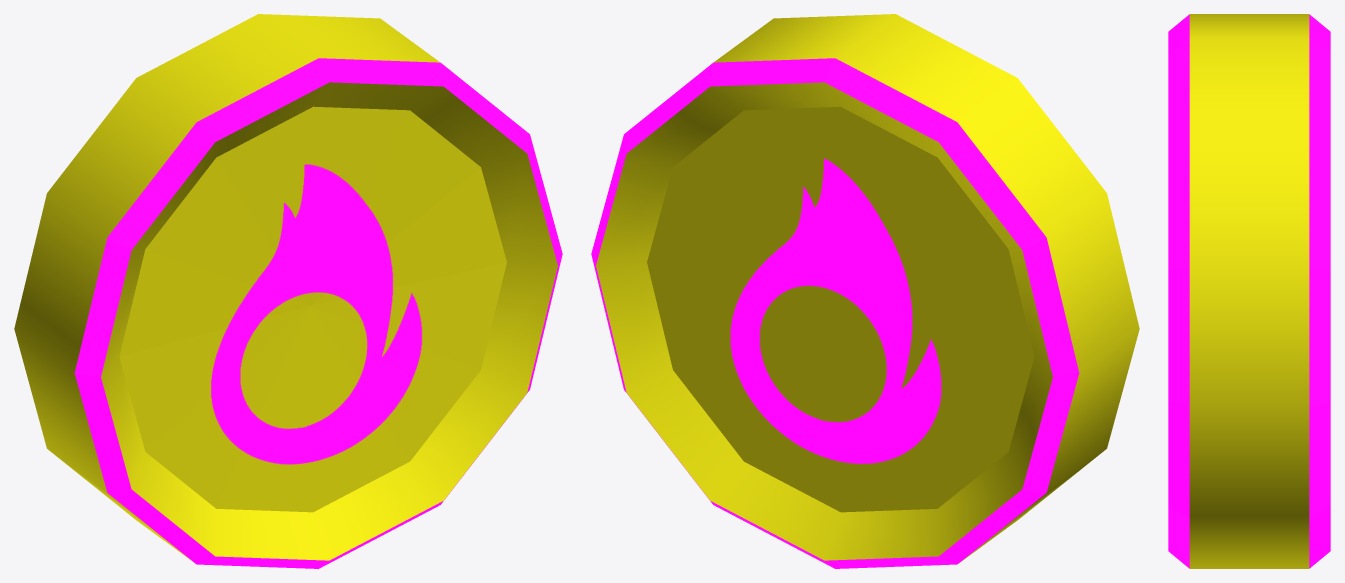
The model's file is coin-yellow.gltf.
The picture shows the model from 3 angles, left to right: view 1: azimuth 30°, elevation 25°; view 2: azimuth 150°, elevation 25°; view 3: azimuth 270°, elevation 25°; orthographic projection.
Visible parts, largest first — view 1: coin_yellow; view 2: coin_yellow; view 3: coin_yellow.
Boxes of the visible parts, x1,y1,x2,y2 form: coin_yellow: (14, 14, 562, 568); coin_yellow: (591, 14, 1139, 568); coin_yellow: (1168, 14, 1330, 568).
Bounding box in the file's own units: 1.11 × 1.11 × 0.3227.
3 materials, 1 textured.
